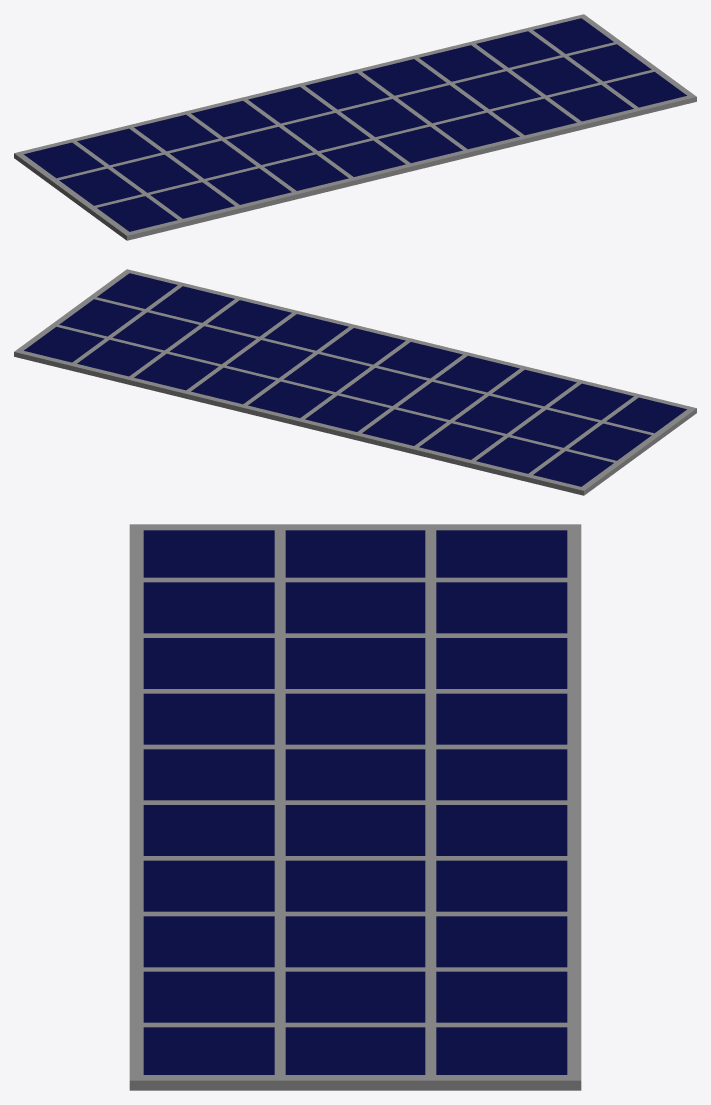
File: SpaceJunk2.fbx
3 views of the same model, one above another, from view 1: azimuth 30°, elevation 25°; view 2: azimuth 150°, elevation 25°; view 3: azimuth 270°, elevation 25° (orthographic). The views are drawn at different scales.
Parts seen in each view (by area): view 1: 2; view 2: 2; view 3: 2.
Boxes of the visible parts, box(x1,y1,x2,y2) form: 2: box(14, 14, 696, 240); 2: box(14, 269, 696, 495); 2: box(129, 524, 581, 1090).
Bounding box in the file's own units: 719 × 5.91 × 247.
